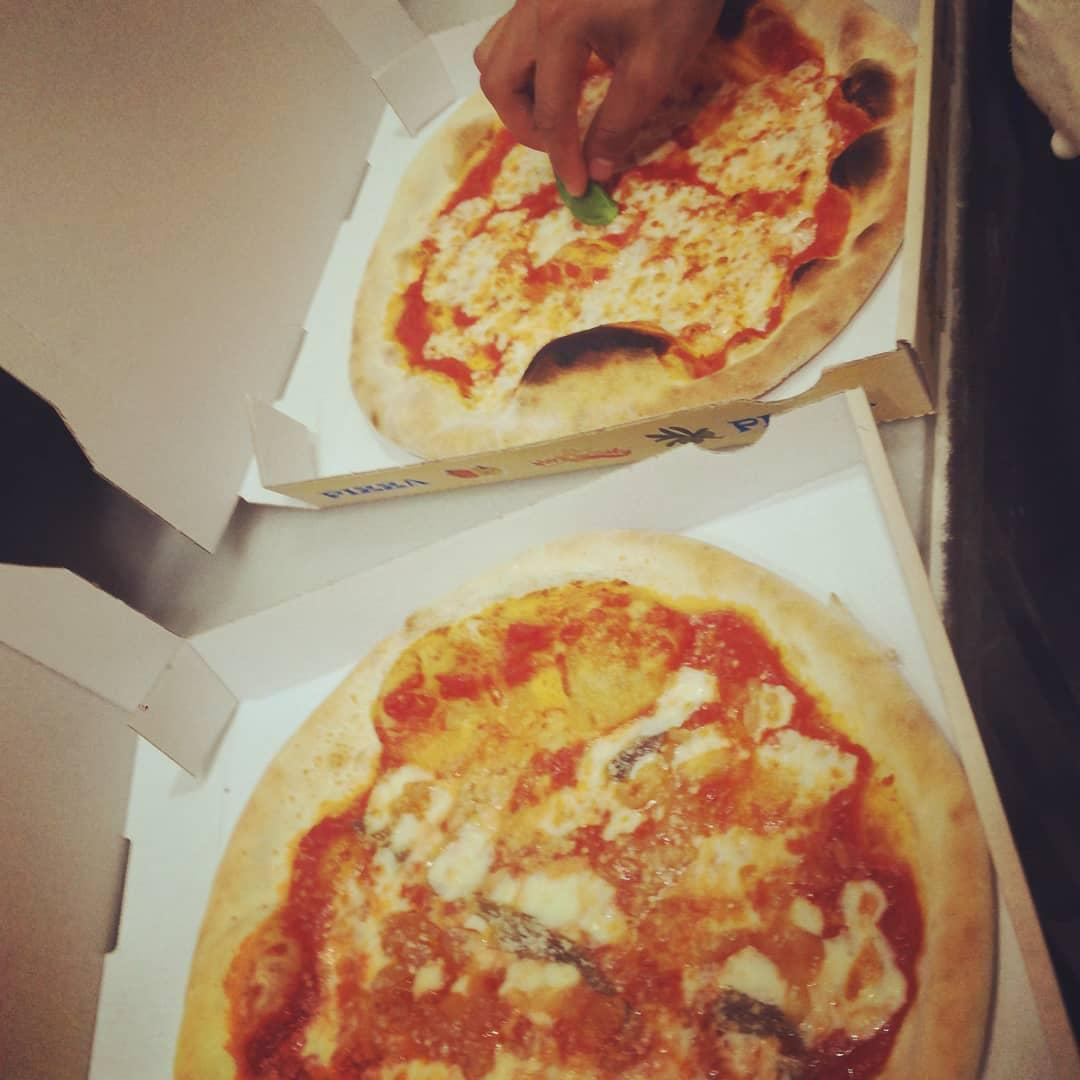Basil: (545, 158, 630, 249)
Cheese: (573, 663, 722, 812), (368, 759, 509, 901), (431, 257, 668, 336), (643, 169, 756, 329), (489, 863, 637, 955), (697, 109, 832, 205), (453, 161, 577, 264), (793, 921, 901, 1037)
Pizza: (173, 537, 1005, 1080), (351, 1, 912, 457)
